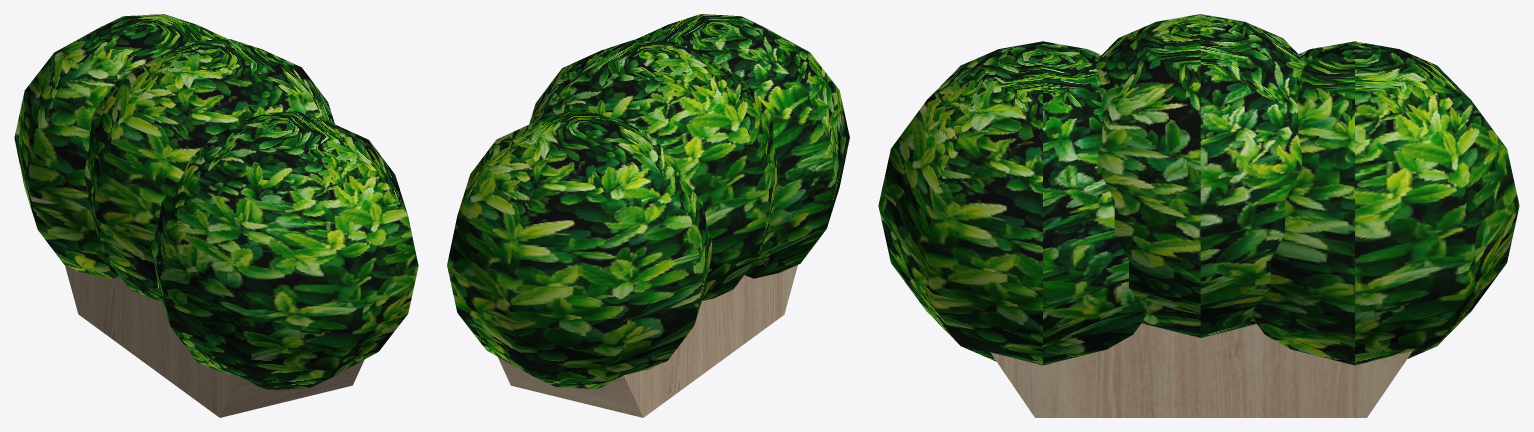
File: bushwithpot.fbx
3 views of the same model, side by side, from view 1: azimuth 30°, elevation 25°; view 2: azimuth 150°, elevation 25°; view 3: azimuth 270°, elevation 25° (orthographic). The views are drawn at different scales.
Parts seen in each view (by area): view 1: Sphere.002, Sphere.001, Sphere, Cube; view 2: Sphere, Sphere.001, Sphere.002, Cube; view 3: Sphere.002, Sphere, Sphere.001, Cube.
Part boxes in pixels (x1=…): Sphere.002: x1=151, y1=111, x2=418, y2=390; Sphere.001: x1=84, y1=39, x2=334, y2=301; Sphere: x1=14, y1=14, x2=227, y2=279; Cube: x1=65, y1=265, x2=364, y2=417; Sphere: x1=447, y1=111, x2=713, y2=388; Sphere.001: x1=529, y1=39, x2=779, y2=300; Sphere.002: x1=635, y1=14, x2=849, y2=278; Cube: x1=498, y1=265, x2=797, y2=417; Sphere.002: x1=878, y1=41, x2=1146, y2=365; Sphere: x1=1253, y1=41, x2=1519, y2=365; Sphere.001: x1=1095, y1=14, x2=1304, y2=337; Cube: x1=990, y1=323, x2=1412, y2=417.
Bounding box in the file's own units: 366 × 430 × 712.
